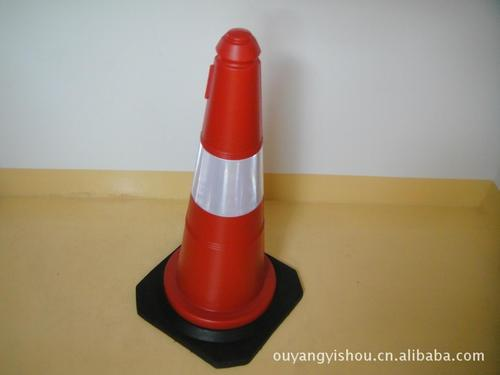cone_barrel: (167, 33, 279, 326)
